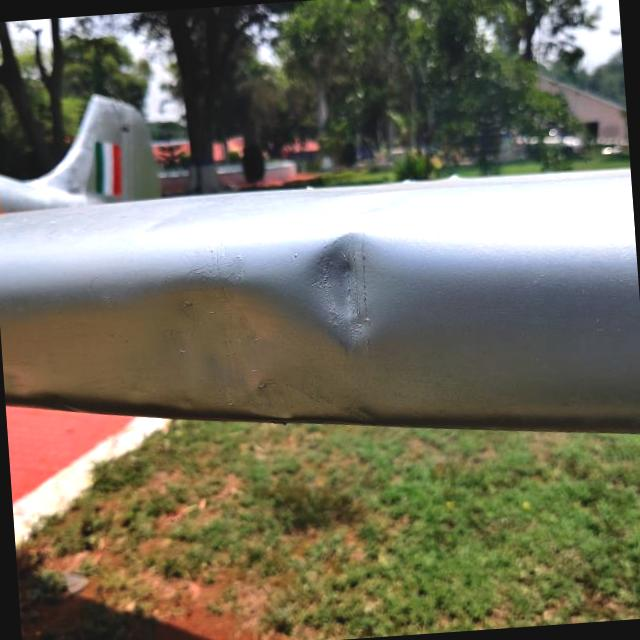dent: (281, 211, 424, 378)
